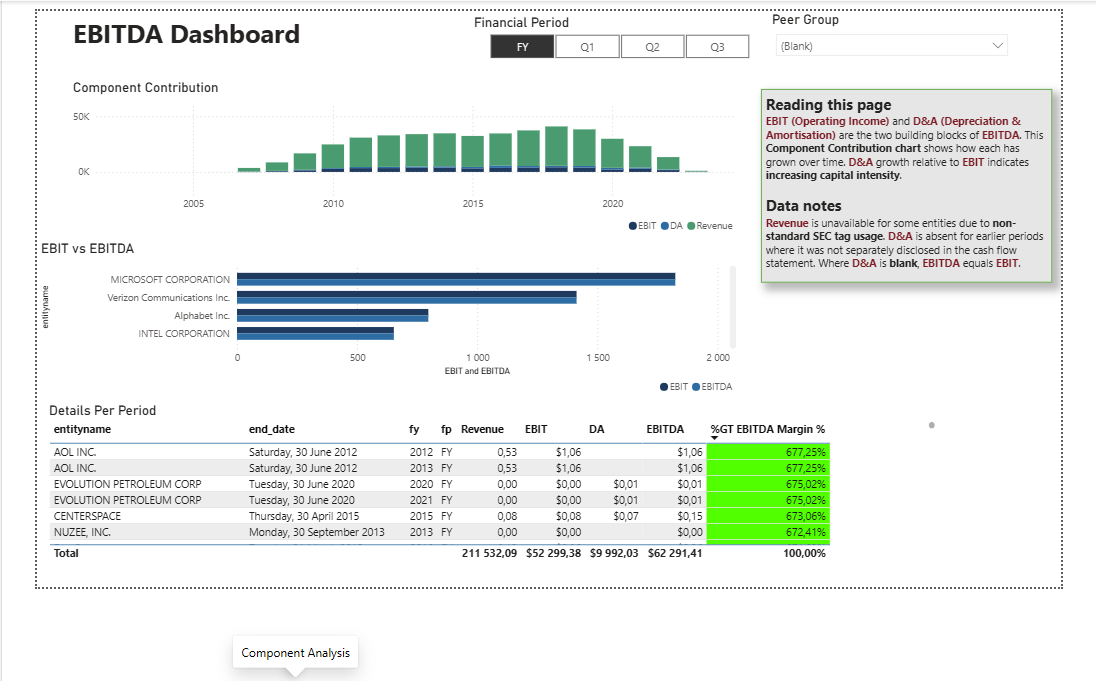

What the dashboard file says about the page in this screenshot:
{"tool":"powerbi","page":{"name":"Component Analysis","canvas":[1280,720],"ordinal":1},"visuals":[{"type":"columnChart","title":"Component Contribution","fields":{"Y":["_Measures.EBIT","_Measures.DA","_Measures.Revenue"],"Category":["dim_date.year"]},"box":[13.8,242.5,593.8,175],"z":0},{"type":"clusteredBarChart","title":"EBIT vs EBITDA","fields":{"Y":["_Measures.EBIT","_Measures.EBITDA"],"Category":["dim_company.entityname"]},"box":[620,242.5,632.5,175],"z":1000},{"type":"tableEx","title":"Details Per Period","fields":{"Values":["dim_company.entityname","fct_company_period.end_date","fct_company_period.fy","fct_company_period.fp","_Measures.Revenue","_Measures.EBIT","_Measures.DA","_Measures.EBITDA","_Measures.EBITDA Margin %"]},"box":[14,428,790,222],"z":2000},{"type":"slicer","title":"Peer Group","fields":{"Values":["dim_company.peer_group"]},"box":[347.5,6.2,228.8,66.2],"z":3000},{"type":"slicer","title":"Financial Period","fields":{"Values":["fct_company_period.fp"]},"box":[902.5,3.8,357.5,62.5],"z":4000},{"type":"textbox","box":[814,428,439,222],"z":5000},{"type":"textbox","box":[14,6,327,48],"z":6000},{"type":"listSlicer","title":"Company","fields":{"Values":["dim_company.entityname"]},"box":[587.5,6.2,300,220],"z":7000},{"type":"textbox","box":[373.8,669.2,499.6,38.1],"z":8000}]}

Visuals, with their boxes on the page's 1280x720 design canvas (x1, y1, x2, y2). These are canvas units, not pixel positions in the 1096x681 screenshot, which may show the page scaled, cropped or inside an application window:
"Component Contribution" columnChart: select_region(14, 242, 608, 418)
"EBIT vs EBITDA" clusteredBarChart: select_region(620, 242, 1252, 418)
"Details Per Period" tableEx: select_region(14, 428, 804, 650)
"Peer Group" slicer: select_region(348, 6, 576, 72)
"Financial Period" slicer: select_region(902, 4, 1260, 66)
textbox: select_region(814, 428, 1253, 650)
textbox: select_region(14, 6, 341, 54)
"Company" listSlicer: select_region(588, 6, 888, 226)
textbox: select_region(374, 669, 873, 707)
